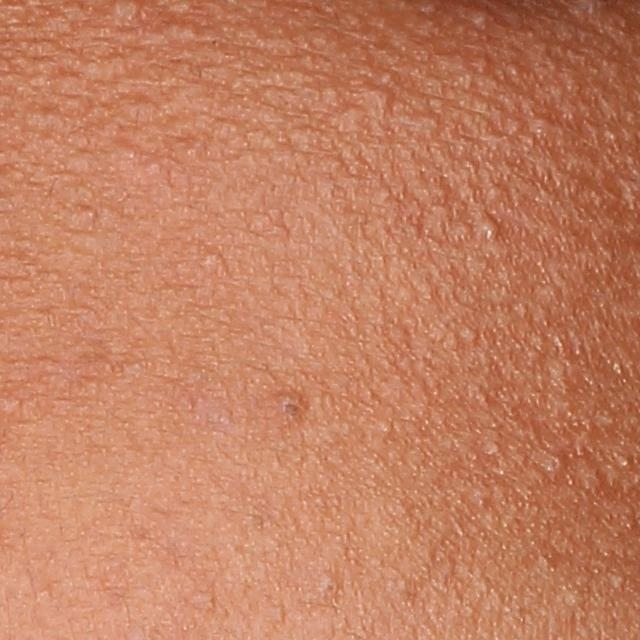comedo: (365, 85, 400, 117), (476, 211, 500, 246), (529, 111, 557, 137), (276, 394, 304, 419), (470, 7, 495, 31), (604, 570, 628, 592), (201, 248, 225, 266), (321, 578, 340, 597)
